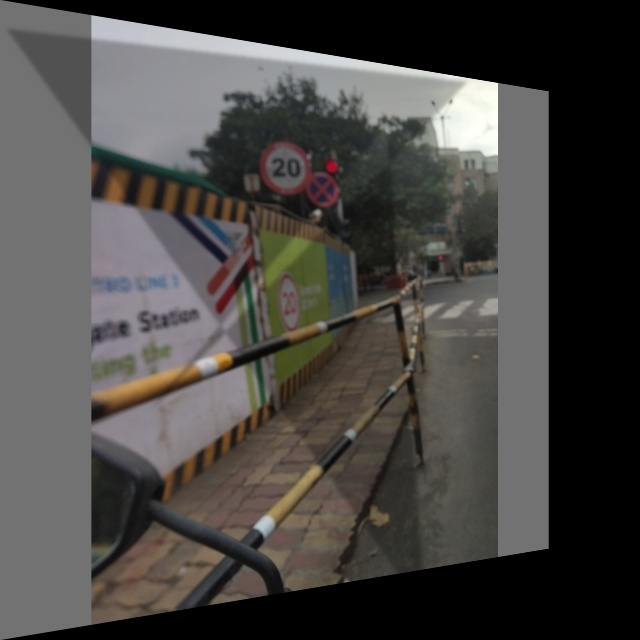Speed_Limit_20: (257, 138, 310, 194)
